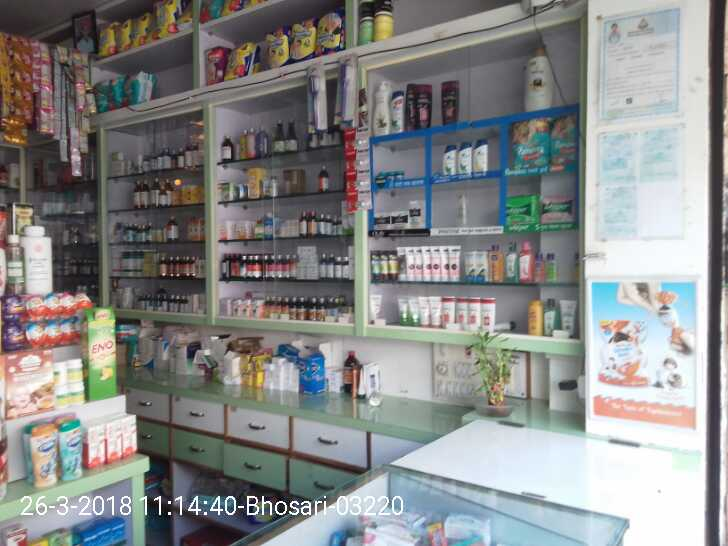vicks: (386, 171, 406, 183)
